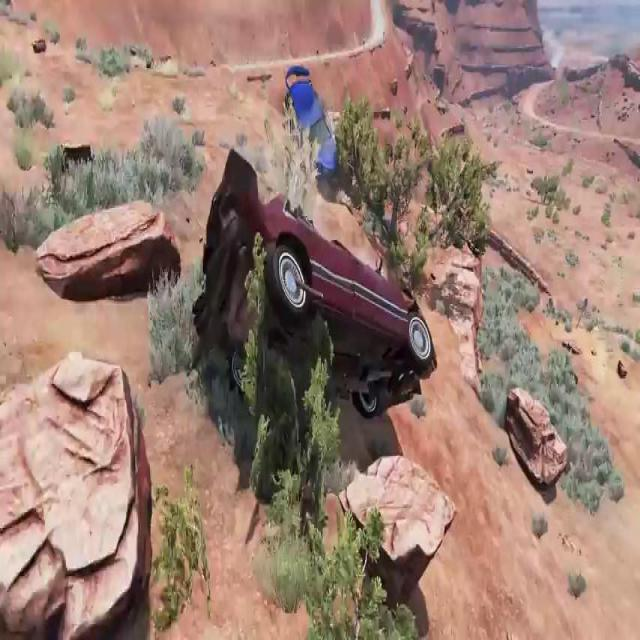accident: (189, 129, 436, 432), (279, 56, 339, 185)
